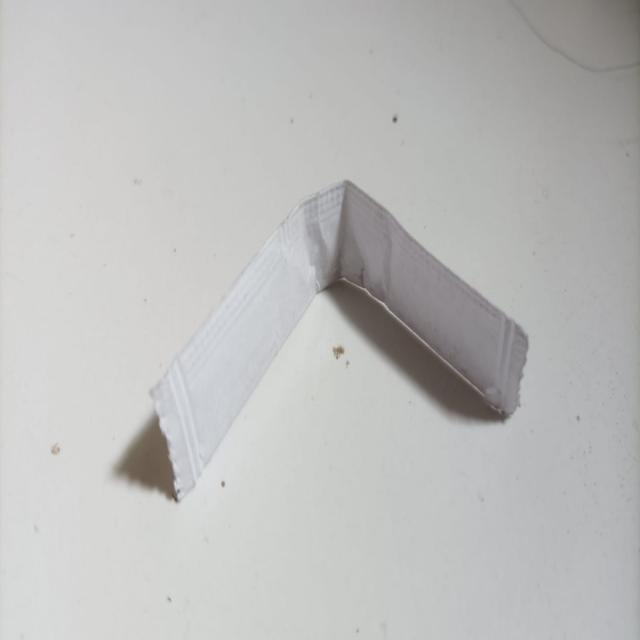Organik: (148, 178, 527, 501)
